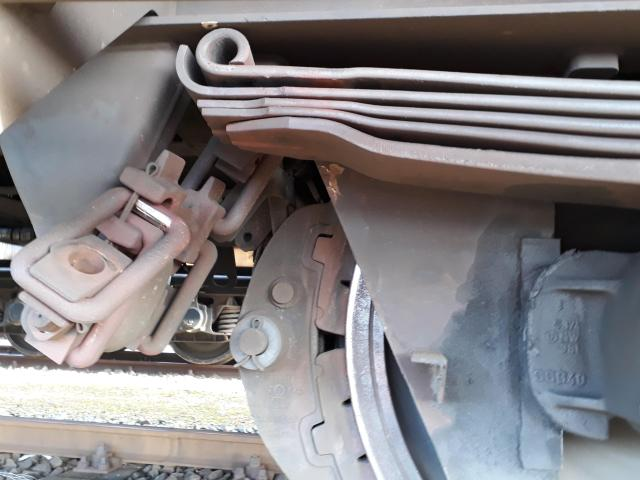blattfederww: (161, 19, 640, 179)
